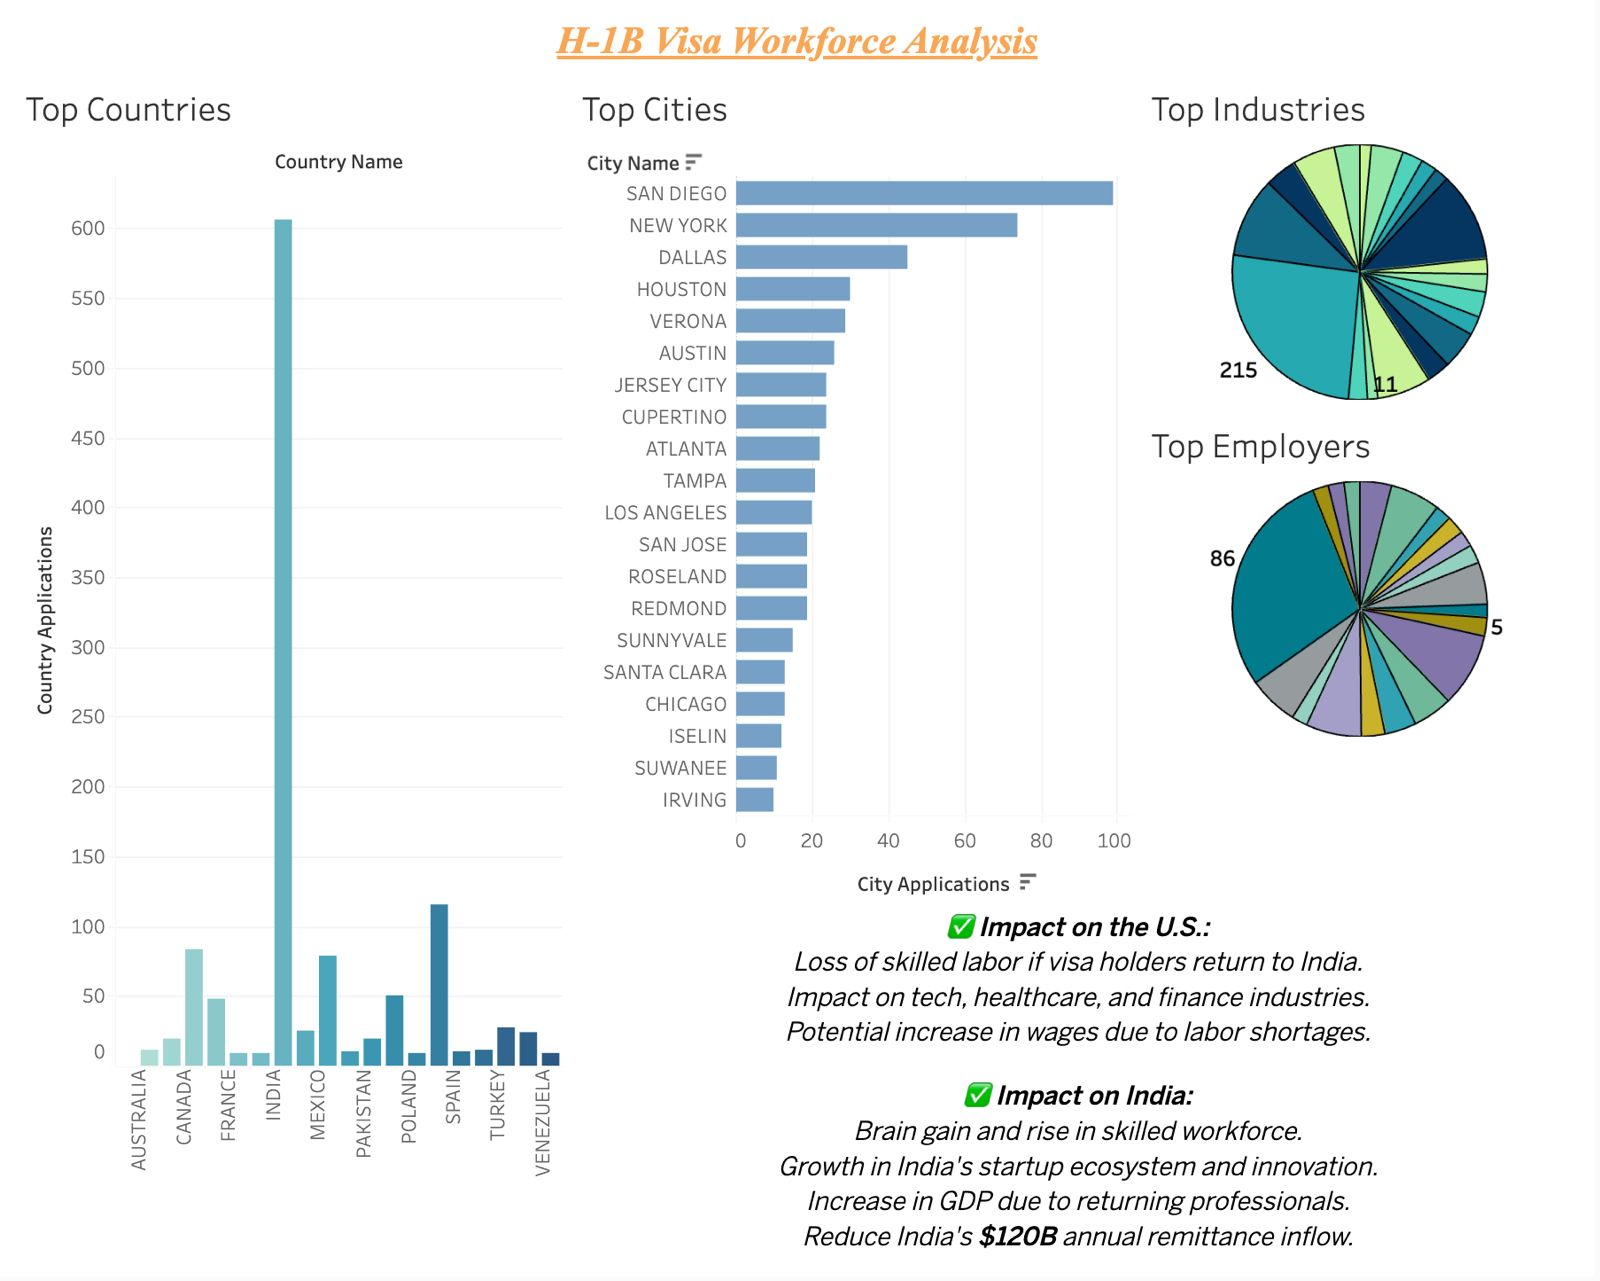

Layout of this report page (visuals, bound fields, positions):
{"tool":"tableau","page":{"name":"Dashboard 1","canvas":[1000,800],"ordinal":0},"visuals":[{"type":"title","box":[8,8,984,35]},{"type":"worksheet","title":"Top Countries","mark":"Automatic","rows":["Country Applications"],"cols":["Country Name"],"box":[8,43,348.8,749]},{"type":"worksheet","title":"Top Cities","mark":"Automatic","rows":["City Name"],"cols":["City Applications"],"box":[356.8,43,357.2,749]},{"type":"worksheet","title":"Top Industries","mark":"Pie","box":[714,43,278,211]},{"type":"worksheet","title":"Top Employers","mark":"Pie","box":[714,254,278,211]},{"type":"text","box":[378,567,596,223]}]}

Visuals, with their boxes in screenshot pixels (x1, y1, x2, y2), scaled from the page's 1000x800 canvas onto the 1600x1281 screenshot:
title: x1=13, y1=13, x2=1587, y2=69
"Top Countries" worksheet: x1=13, y1=69, x2=571, y2=1268
"Top Cities" worksheet: x1=571, y1=69, x2=1142, y2=1268
"Top Industries" worksheet (Pie marks): x1=1142, y1=69, x2=1587, y2=407
"Top Employers" worksheet (Pie marks): x1=1142, y1=407, x2=1587, y2=745
text: x1=605, y1=908, x2=1558, y2=1265
